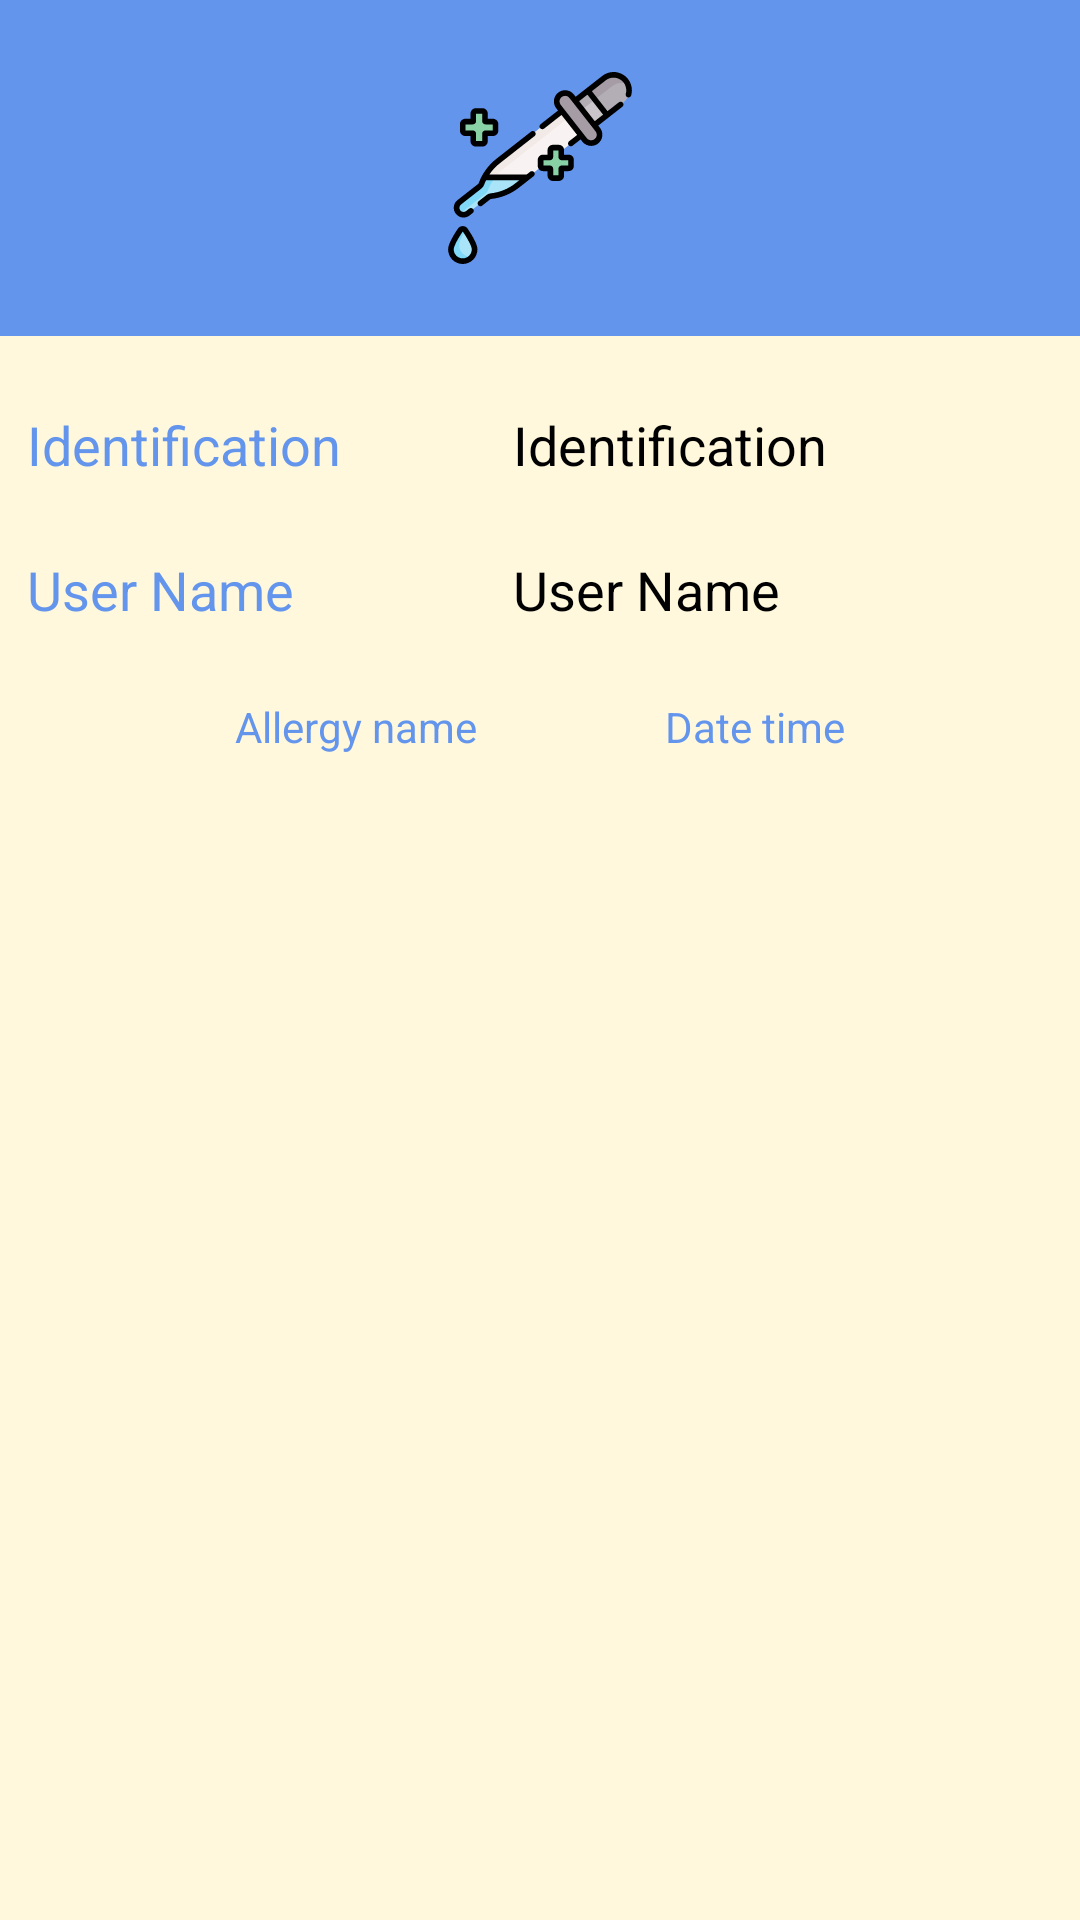

Icon click points for this 1080px x 1920px phone screenshot, format (x=x, y=y):
allergy: (x=540, y=168)
